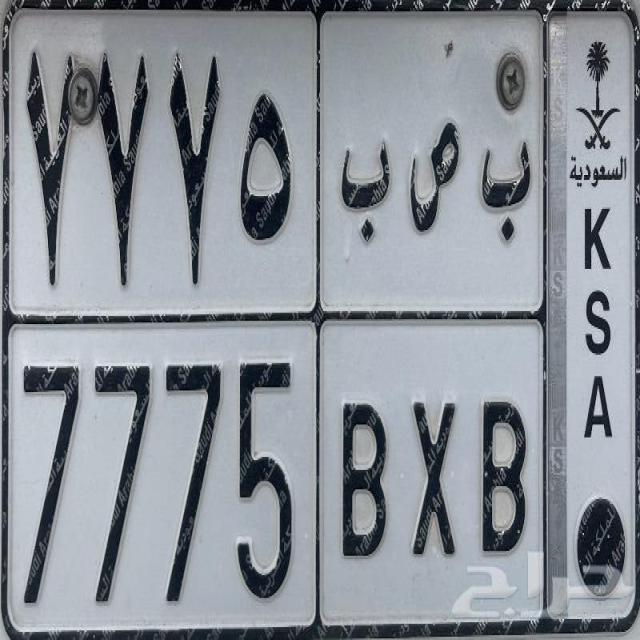license_plate: (5, 314, 550, 636)
